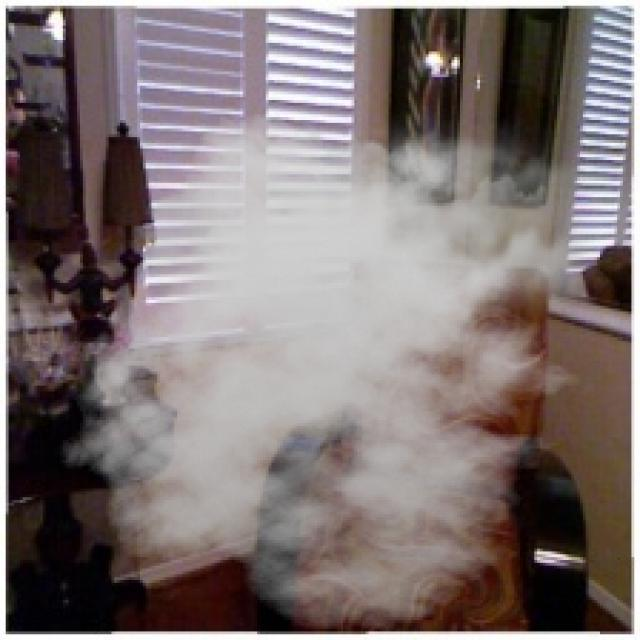Smoke: (60, 97, 614, 632)
